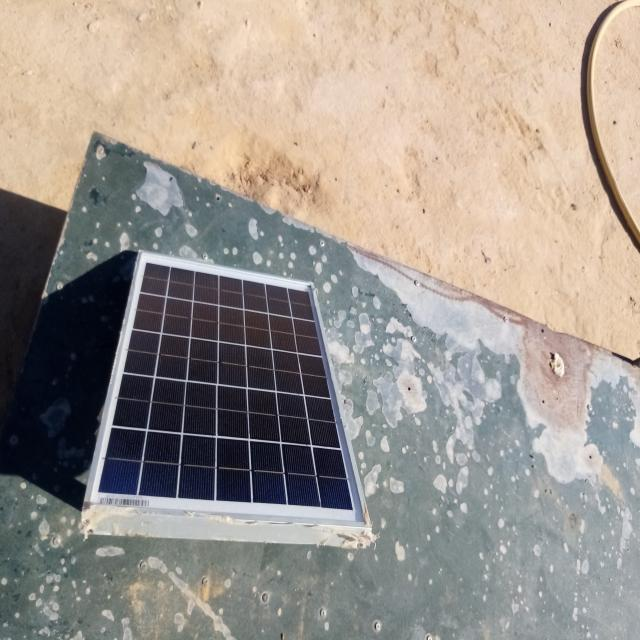no faulty: (86, 250, 369, 535)
